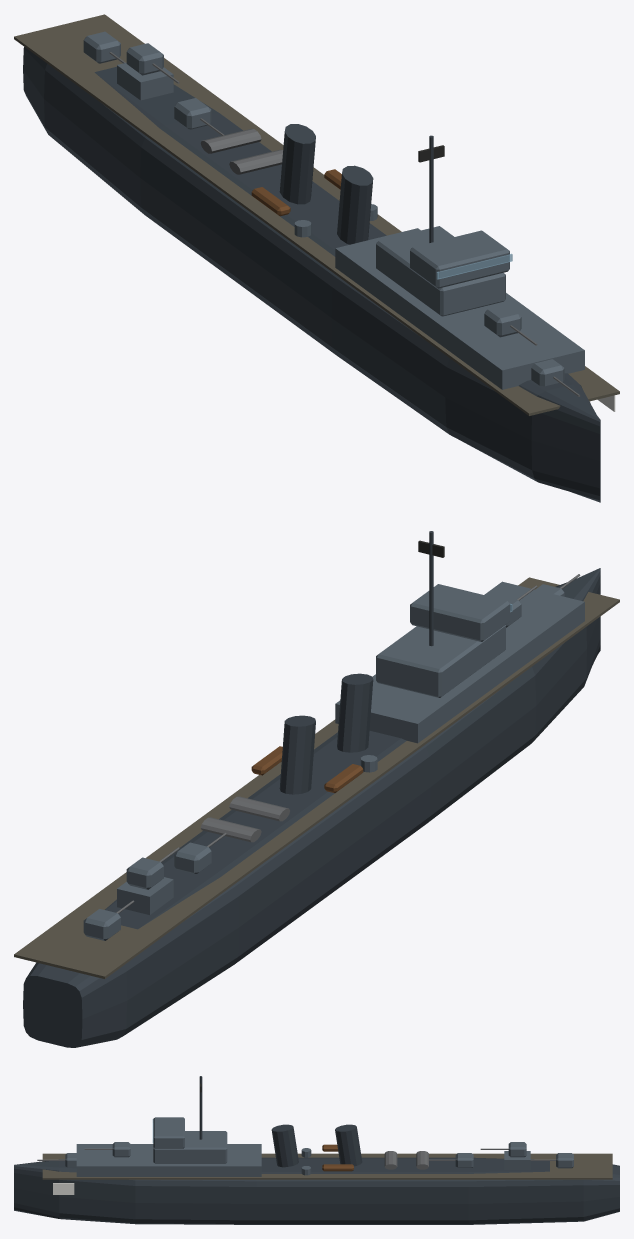
The model's file is contratorpedeiro.glb.
The picture shows the model from 3 angles, top to bottom: view 1: azimuth 30°, elevation 25°; view 2: azimuth 150°, elevation 25°; view 3: azimuth 270°, elevation 25°; orthographic projection. The views are drawn at different scales.
Visible parts, largest first — view 1: Navio.001; view 2: Navio.001; view 3: Navio.001.
Boxes of the visible parts, bbox=[...] form: Navio.001: bbox=[14, 14, 619, 502]; Navio.001: bbox=[14, 531, 619, 1047]; Navio.001: bbox=[14, 1076, 619, 1224].
Size of the model in its own units: 12.07 by 29.17 by 115.
